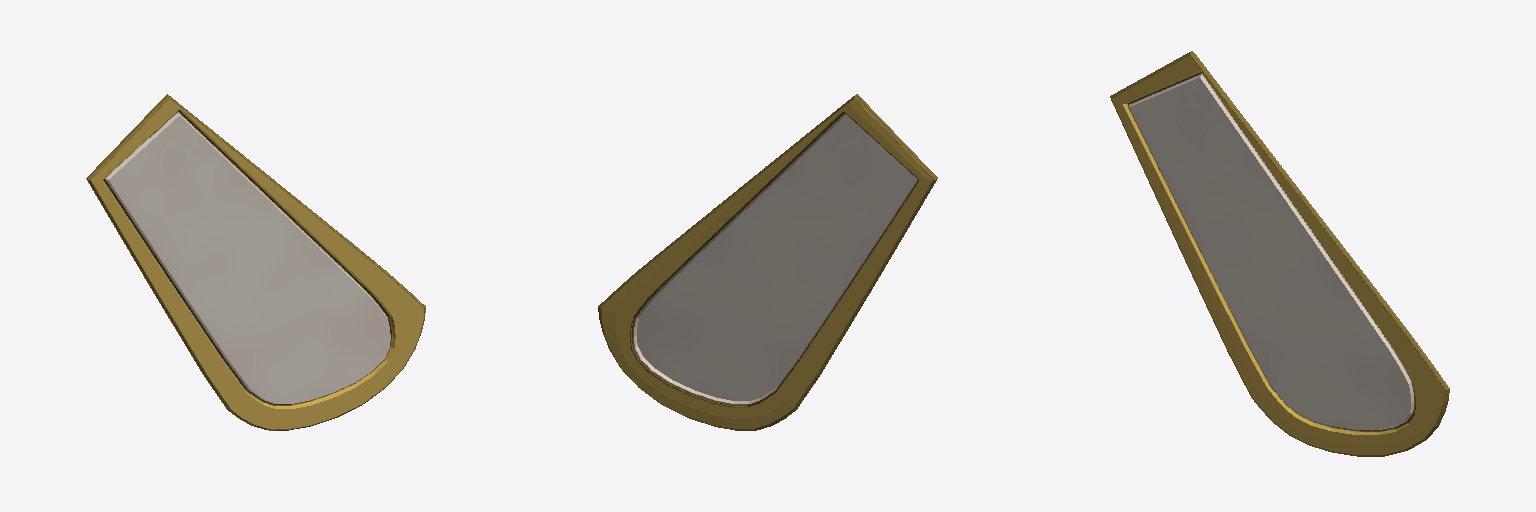
3 views of the same model, side by side, from view 1: azimuth 30°, elevation 25°; view 2: azimuth 150°, elevation 25°; view 3: azimuth 330°, elevation 25° (orthographic).
Visible parts, largest first — view 1: pCube14 group21; view 2: pCube14 group21; view 3: pCube14 group21.
Boxes of the visible parts, x1=… form: pCube14 group21: x1=86, y1=94, x2=425, y2=430; pCube14 group21: x1=598, y1=94, x2=937, y2=430; pCube14 group21: x1=1110, y1=51, x2=1449, y2=456.
Size of the model in its own units: 1.88 by 1.95 by 0.0345.
1 materials, 1 textured.